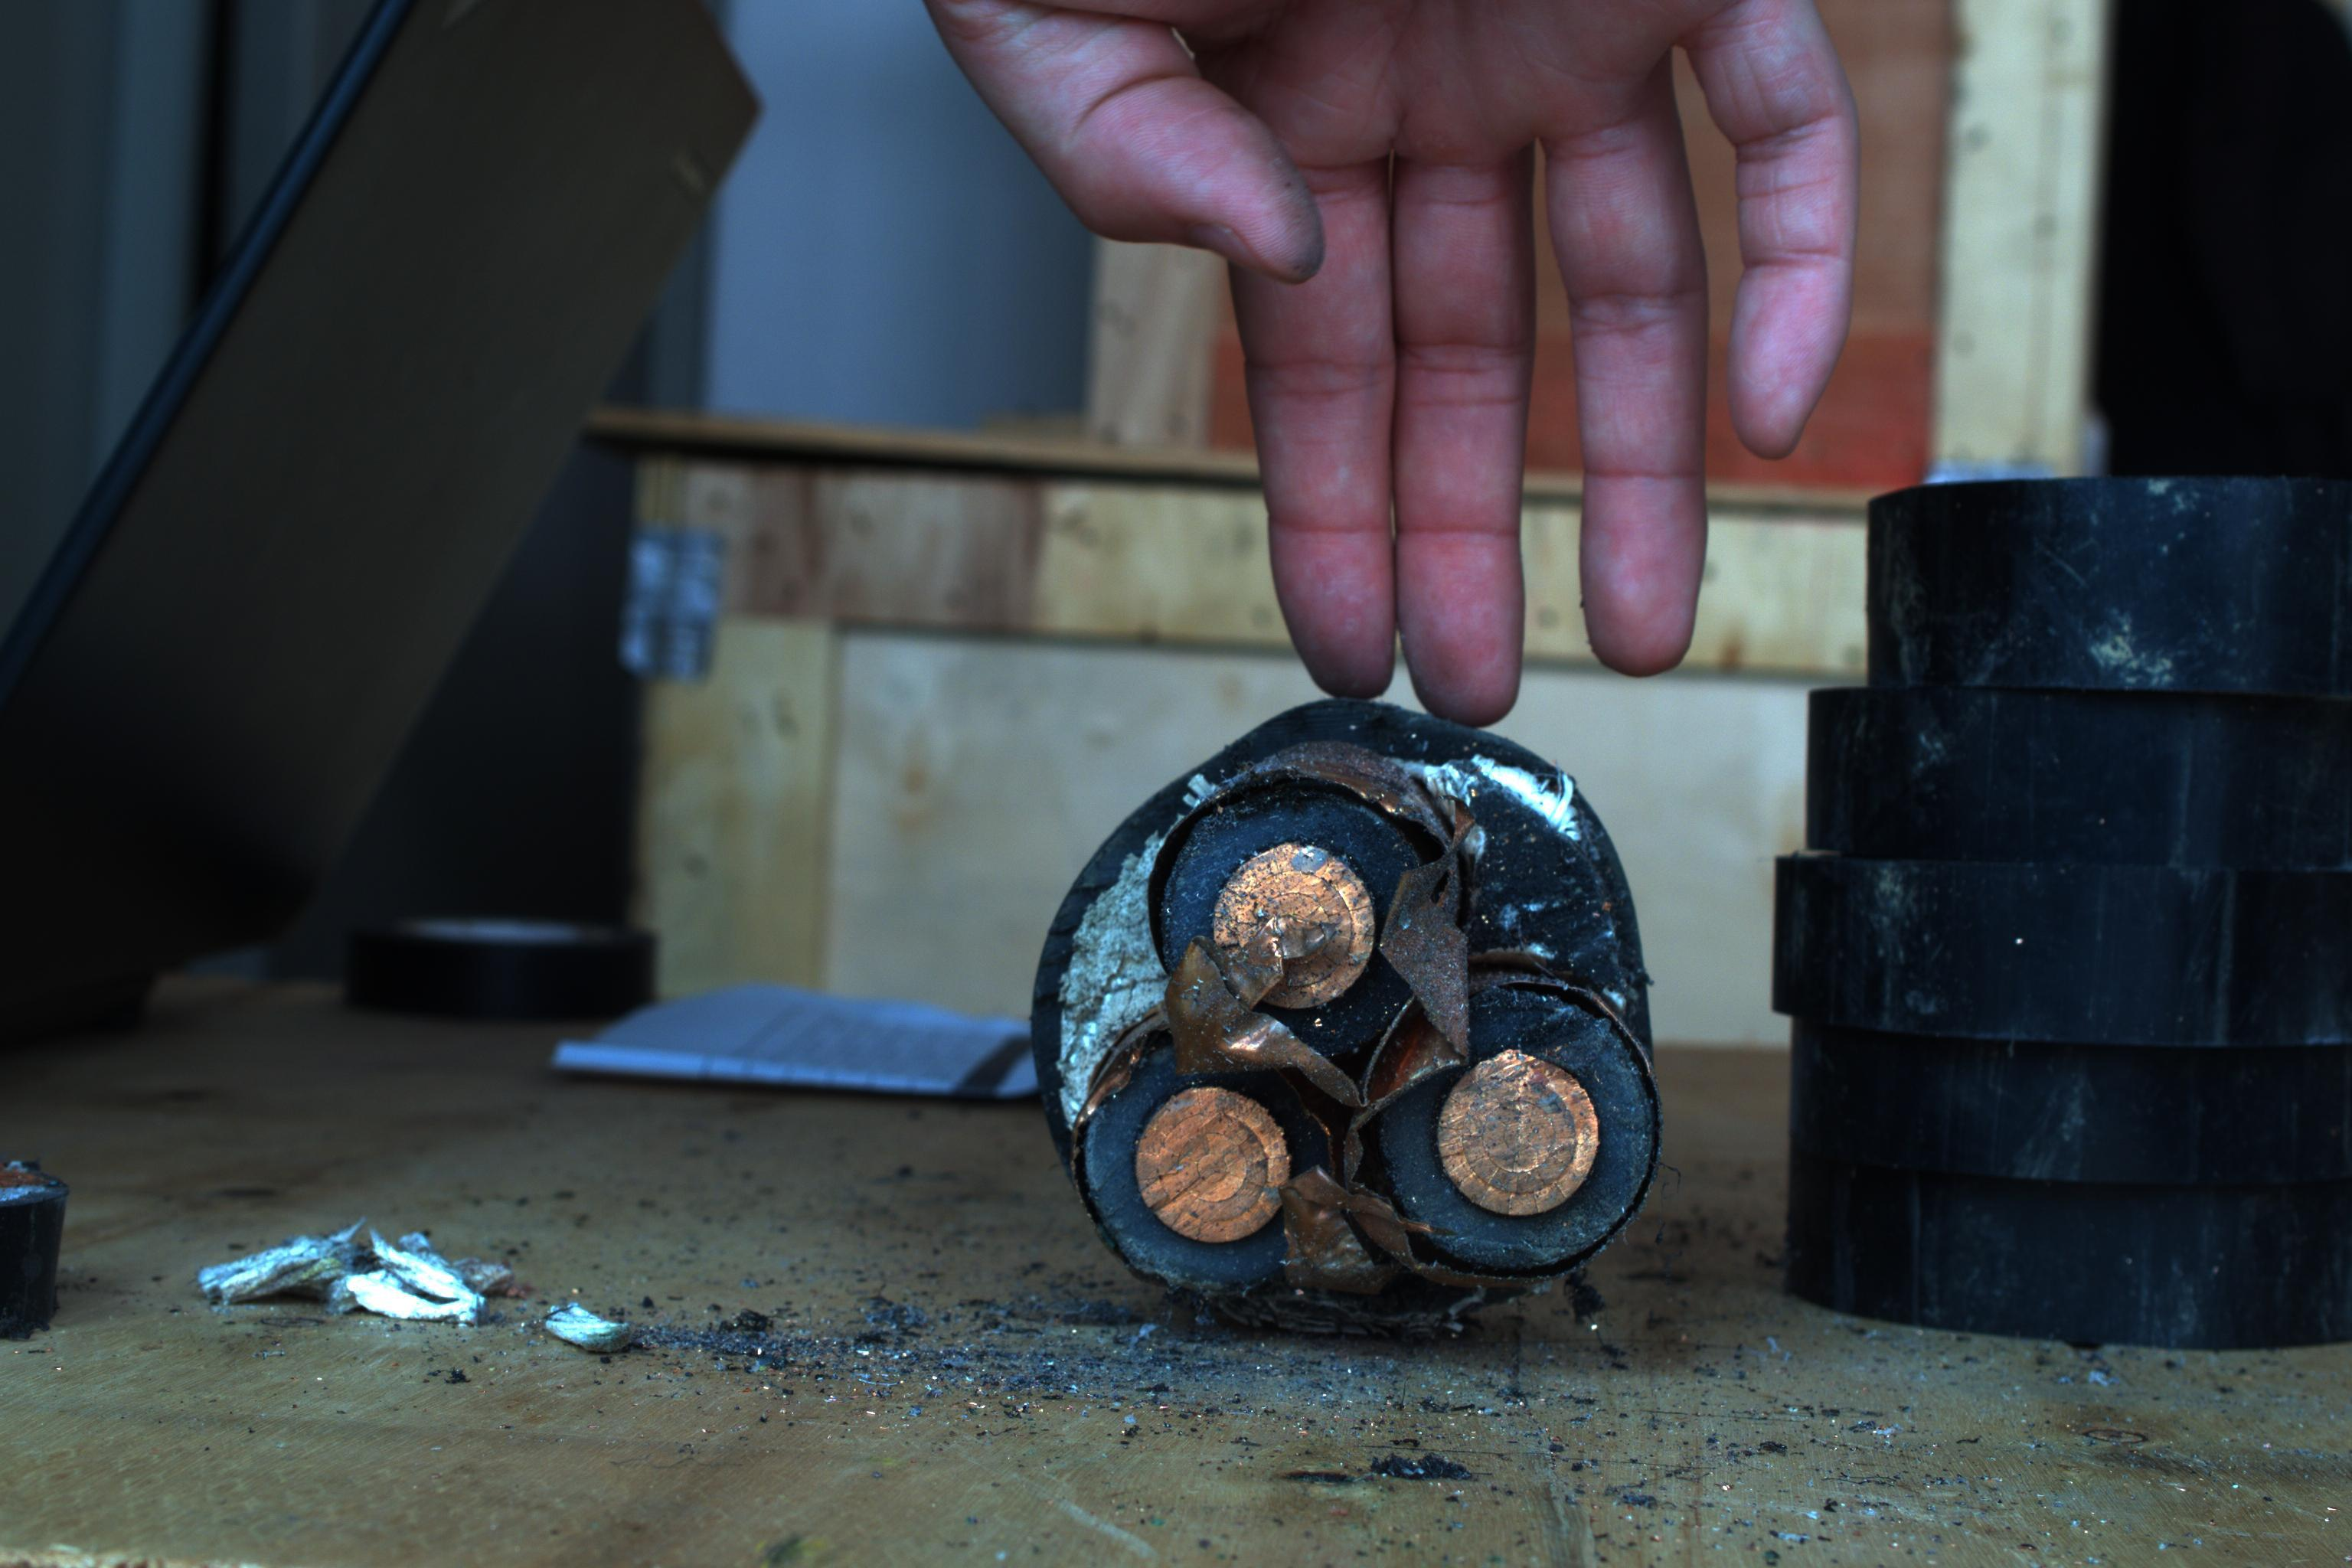ZA_YJV_8.7_10kV_3x240: (1057, 752, 1682, 1335)
